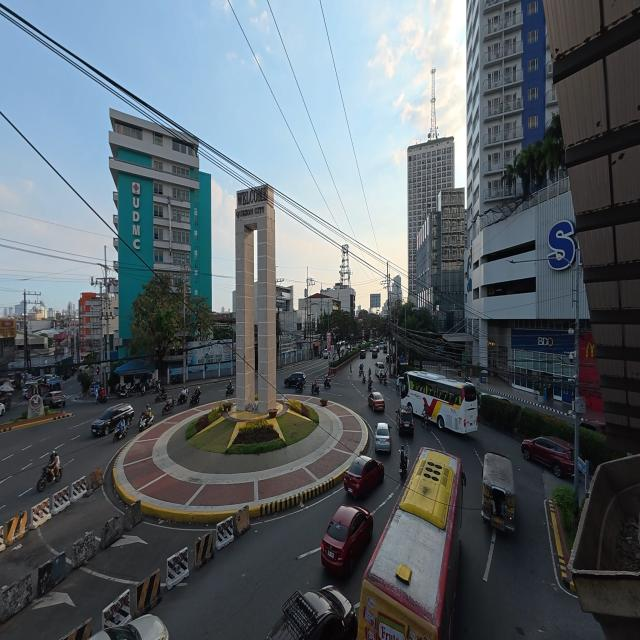Jeepneys: (482, 453, 514, 531)
bus: (358, 448, 464, 639), (401, 371, 477, 433)
car: (267, 586, 357, 639), (321, 505, 373, 575), (522, 436, 574, 477), (90, 615, 168, 639), (344, 456, 384, 497), (92, 404, 134, 435), (396, 406, 414, 436), (374, 422, 391, 453), (43, 391, 65, 408), (368, 391, 385, 412), (580, 420, 605, 434), (285, 372, 305, 386), (23, 381, 37, 398), (488, 394, 511, 403), (375, 362, 384, 379), (0, 403, 6, 416), (323, 350, 328, 358), (372, 350, 377, 358), (360, 350, 365, 358), (347, 345, 351, 352), (370, 344, 373, 352), (384, 345, 387, 353)
motorcycle: (37, 466, 62, 492), (139, 414, 154, 432), (114, 423, 128, 442), (162, 398, 174, 414), (117, 385, 129, 398), (155, 389, 167, 402), (0, 397, 11, 410), (130, 381, 141, 394), (400, 462, 407, 481), (190, 392, 199, 406), (96, 394, 108, 404), (177, 393, 187, 405), (225, 384, 234, 397), (296, 380, 303, 393), (149, 379, 160, 387), (140, 384, 147, 396), (311, 384, 319, 394), (324, 378, 330, 388), (465, 375, 472, 383), (368, 380, 372, 392), (383, 375, 387, 386), (363, 374, 366, 383)
